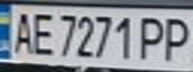1: (112, 12, 139, 60)
2: (72, 11, 96, 58)
7: (54, 10, 78, 57), (93, 12, 115, 60)
A: (6, 8, 36, 55)
E: (27, 9, 57, 56)
P: (136, 12, 172, 62), (157, 14, 193, 63)
